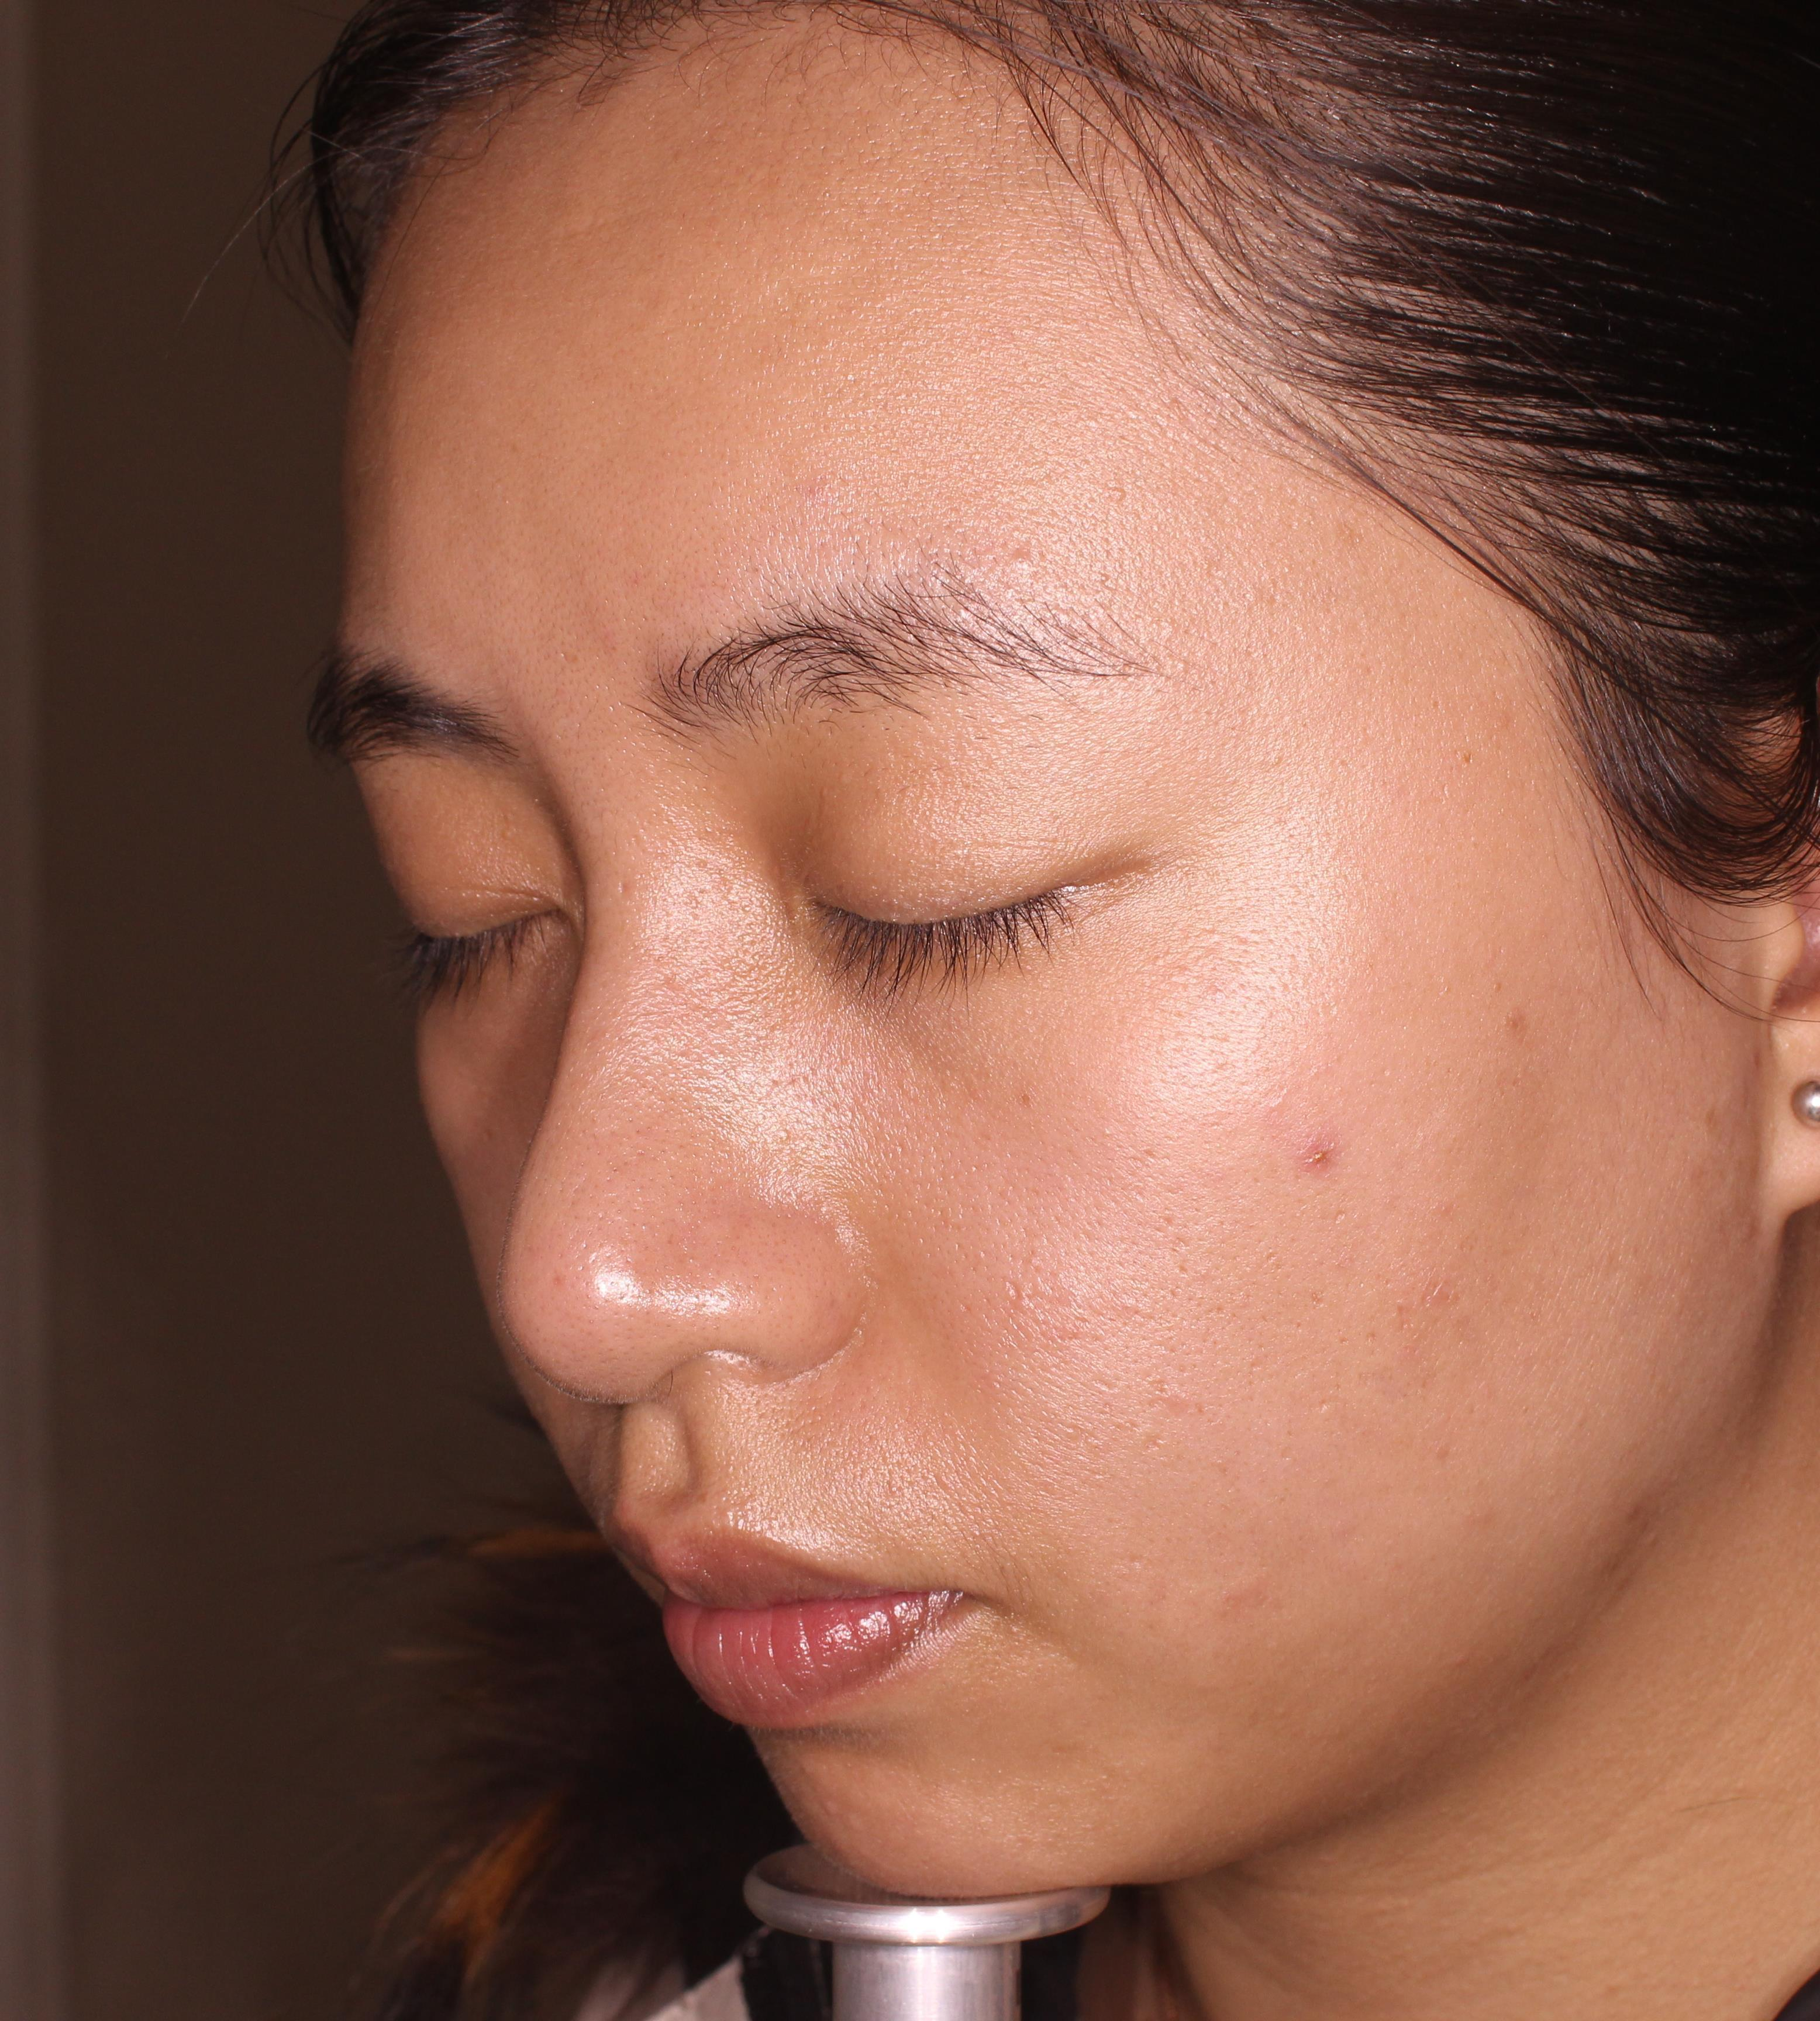fore: (1291, 1124, 1360, 1196)
